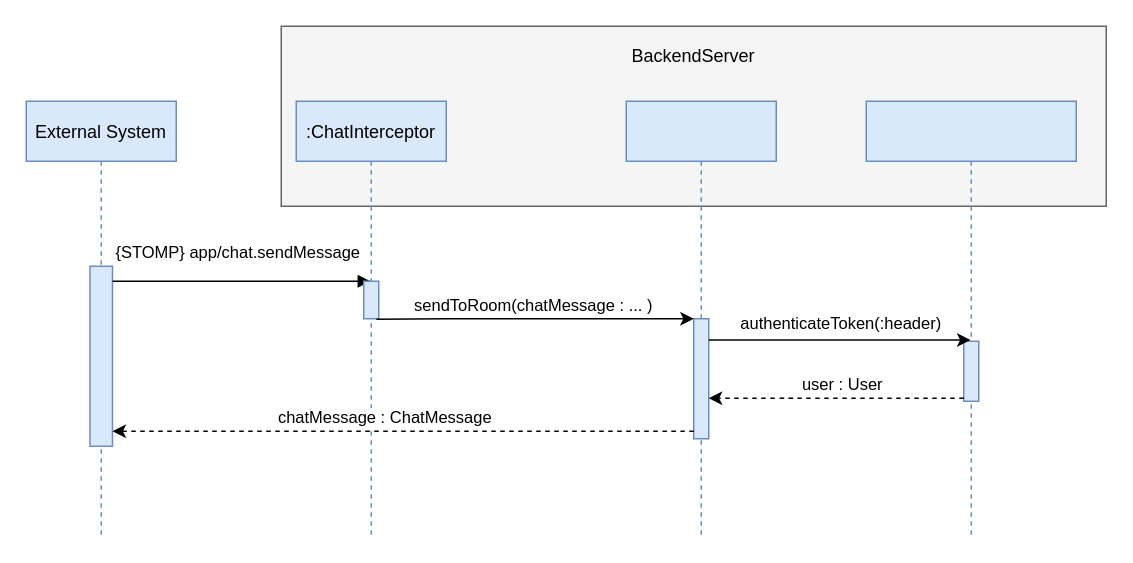
Image size: 1133x563. Some labels were removed from this diagram. Each missing label, with the centre of its shape:
:ChatController: the point at 700,318
:JwtUserDetailsService: the point at 970,318
